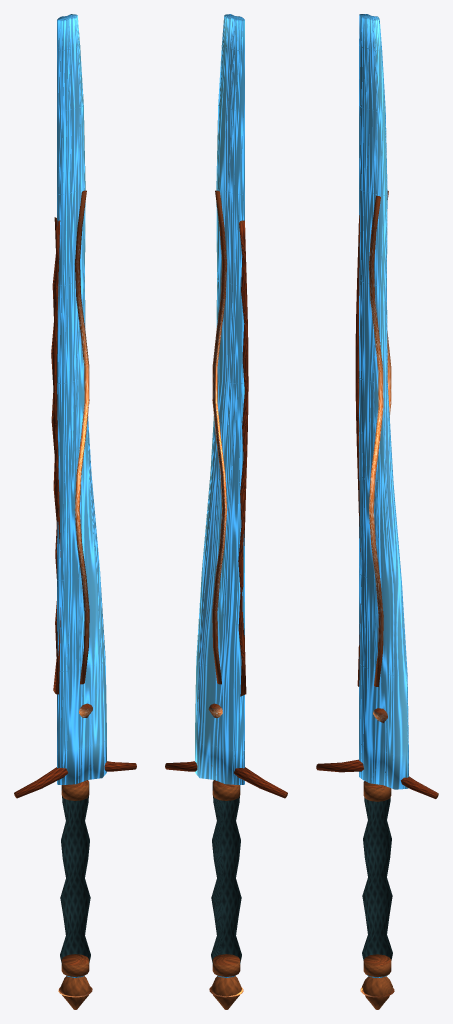
Rendered from sword_04_fulgurite_crest.glb.
3 renders of one model, left to right at view 1: azimuth 30°, elevation 25°; view 2: azimuth 150°, elevation 25°; view 3: azimuth 330°, elevation 25°, orthographic.
Parts seen in each view (by area): view 1: Blade_FulguriteCrestSword, Grip_VitrifiedWrap, Inlay_FulguriteBranches, Crest_LightningFin, Ferrule_BurntCopper, Guard_FusedGlassQuillons, Pommel_FulguriteKnob; view 2: Blade_FulguriteCrestSword, Grip_VitrifiedWrap, Inlay_FulguriteBranches, Crest_LightningFin, Ferrule_BurntCopper, Guard_FusedGlassQuillons, Pommel_FulguriteKnob; view 3: Blade_FulguriteCrestSword, Grip_VitrifiedWrap, Inlay_FulguriteBranches, Ferrule_BurntCopper, Crest_LightningFin, Guard_FusedGlassQuillons, Pommel_FulguriteKnob.
Boxes of the visible parts, bbox=[...] form: Blade_FulguriteCrestSword: bbox=[57, 14, 106, 784]; Grip_VitrifiedWrap: bbox=[60, 782, 90, 977]; Inlay_FulguriteBranches: bbox=[74, 190, 89, 684]; Crest_LightningFin: bbox=[51, 217, 60, 694]; Ferrule_BurntCopper: bbox=[61, 780, 89, 976]; Guard_FusedGlassQuillons: bbox=[14, 761, 136, 798]; Pommel_FulguriteKnob: bbox=[58, 976, 92, 1009]; Blade_FulguriteCrestSword: bbox=[195, 14, 244, 784]; Grip_VitrifiedWrap: bbox=[211, 782, 241, 977]; Inlay_FulguriteBranches: bbox=[212, 190, 227, 684]; Crest_LightningFin: bbox=[238, 220, 248, 696]; Ferrule_BurntCopper: bbox=[212, 780, 240, 976]; Guard_FusedGlassQuillons: bbox=[165, 761, 287, 798]; Pommel_FulguriteKnob: bbox=[209, 976, 243, 1009]; Blade_FulguriteCrestSword: bbox=[359, 14, 408, 789]; Grip_VitrifiedWrap: bbox=[362, 781, 392, 977]; Inlay_FulguriteBranches: bbox=[369, 191, 391, 686]; Ferrule_BurntCopper: bbox=[363, 781, 391, 977]; Crest_LightningFin: bbox=[355, 215, 360, 686]; Guard_FusedGlassQuillons: bbox=[316, 759, 438, 798]; Pommel_FulguriteKnob: bbox=[360, 976, 394, 1009].
Bounding box in the file's own units: 0.3301 × 2.6 × 0.0822.
Materials: 1 (1 with a texture image).
